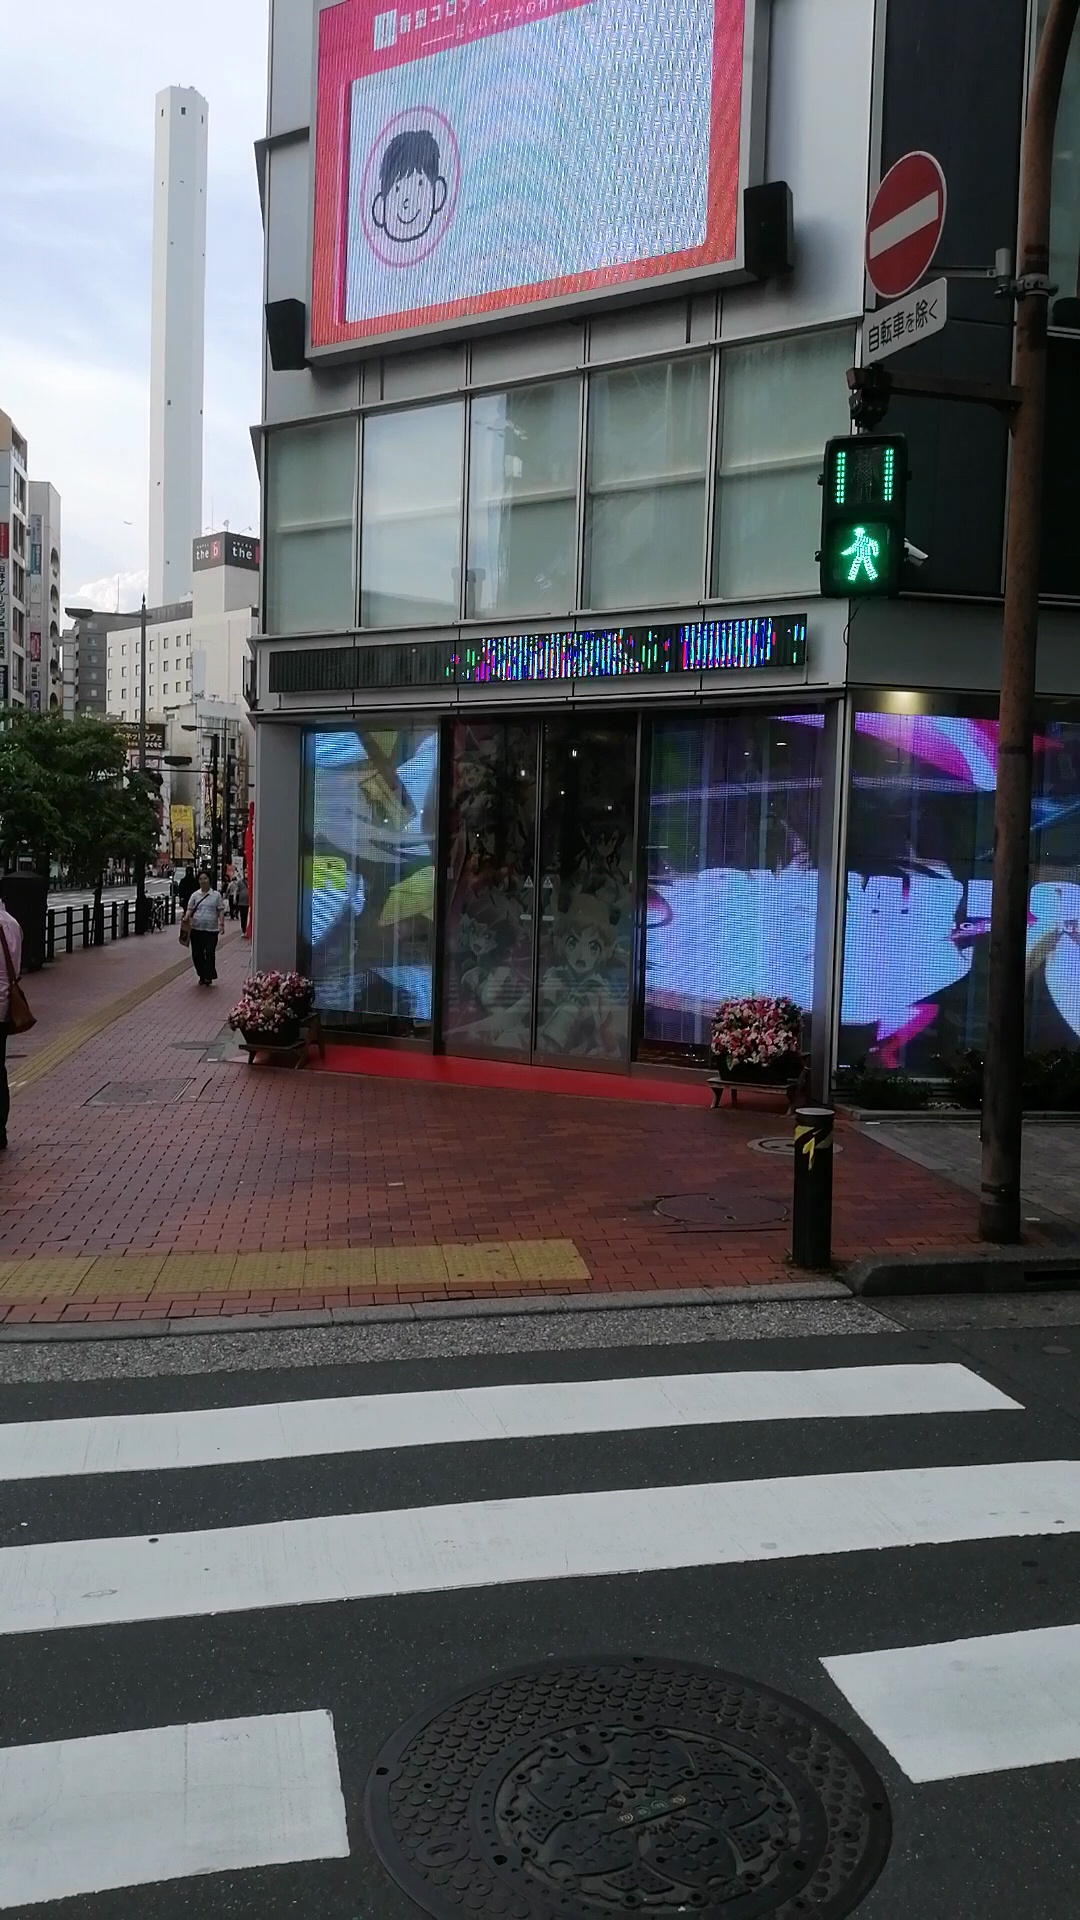green: (822, 433, 903, 593)
